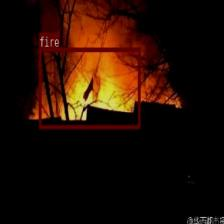fire: (38, 46, 140, 128)
